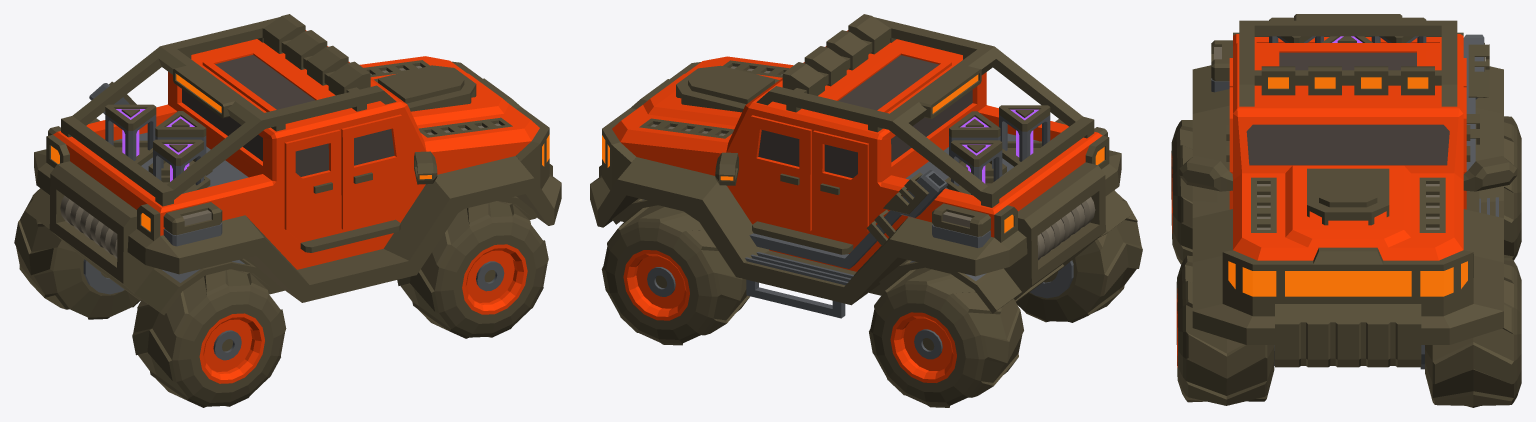
3 renders of one model, left to right at view 1: azimuth 30°, elevation 25°; view 2: azimuth 150°, elevation 25°; view 3: azimuth 270°, elevation 25°, orthographic. The views are drawn at different scales.
Parts seen in each view (by area): view 1: common, bodyPainted.001, wheel.002, wheel.003, wheel.001, wheelPainted.003, wheelPainted.002, wheelGuard.003, cellsCage.003, energy.001, cellsCage.005, wheelGuard.002 (+1 smaller); view 2: common, bodyPainted.001, wheel.001, wheel.006, wheel.002, wheelPainted, wheelPainted.001, wheelGuard.002, energy.001, cellsCage.005, wheelGuard.003, cellsCage.003 (+2 smaller); view 3: common, bodyPainted.001, wheel.006, wheel.003, headlights.001, wheel.002, wheel.001, energy.001, cellsCage.003, cellsCage.005.
Boxes of the visible parts, x1,y1,x2,y2 form: common: [34, 14, 561, 302]; bodyPainted.001: [53, 30, 539, 269]; wheel.002: [132, 269, 286, 407]; wheel.003: [397, 201, 548, 338]; wheel.001: [14, 188, 139, 319]; wheelPainted.003: [462, 244, 527, 314]; wheelPainted.002: [199, 313, 264, 383]; wheelGuard.003: [134, 258, 275, 315]; cellsCage.003: [105, 104, 156, 160]; energy.001: [60, 66, 501, 258]; cellsCage.005: [153, 139, 203, 193]; wheelGuard.002: [24, 189, 124, 294]; common: [590, 14, 1121, 318]; bodyPainted.001: [612, 30, 1102, 271]; wheel.001: [869, 267, 1023, 407]; wheel.006: [601, 205, 750, 345]; wheel.002: [1016, 192, 1142, 322]; wheelPainted: [623, 250, 689, 320]; wheelPainted.001: [890, 312, 956, 382]; wheelGuard.002: [879, 260, 1021, 313]; energy.001: [651, 66, 1095, 260]; cellsCage.005: [999, 105, 1050, 161]; wheelGuard.003: [1030, 190, 1132, 298]; cellsCage.003: [951, 140, 1002, 195]; common: [1179, 14, 1517, 367]; bodyPainted.001: [1229, 34, 1466, 260]; wheel.006: [1425, 258, 1521, 407]; wheel.003: [1176, 255, 1274, 405]; headlights.001: [1242, 77, 1453, 296]; wheel.002: [1171, 120, 1192, 264]; wheel.001: [1504, 116, 1521, 260]; energy.001: [1214, 47, 1439, 229]; cellsCage.003: [1371, 17, 1426, 42]; cellsCage.005: [1269, 17, 1323, 42].
Bounding box in the file's own units: 2.99 × 1.76 × 1.96.
5 materials, 1 textured.
